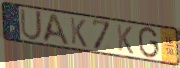7: (91, 19, 111, 52)
A: (41, 12, 71, 47)
G: (138, 26, 160, 60)
K: (69, 16, 88, 49), (116, 23, 135, 56)
U: (19, 8, 43, 42)
